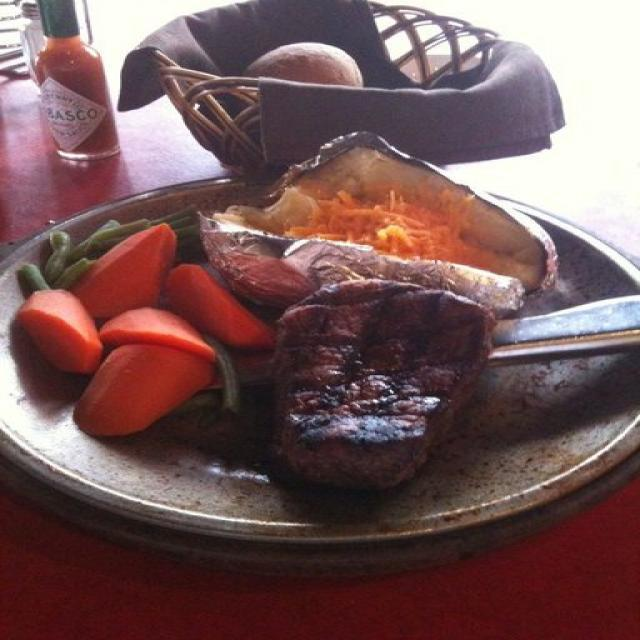Steak: (197, 253, 529, 493)
